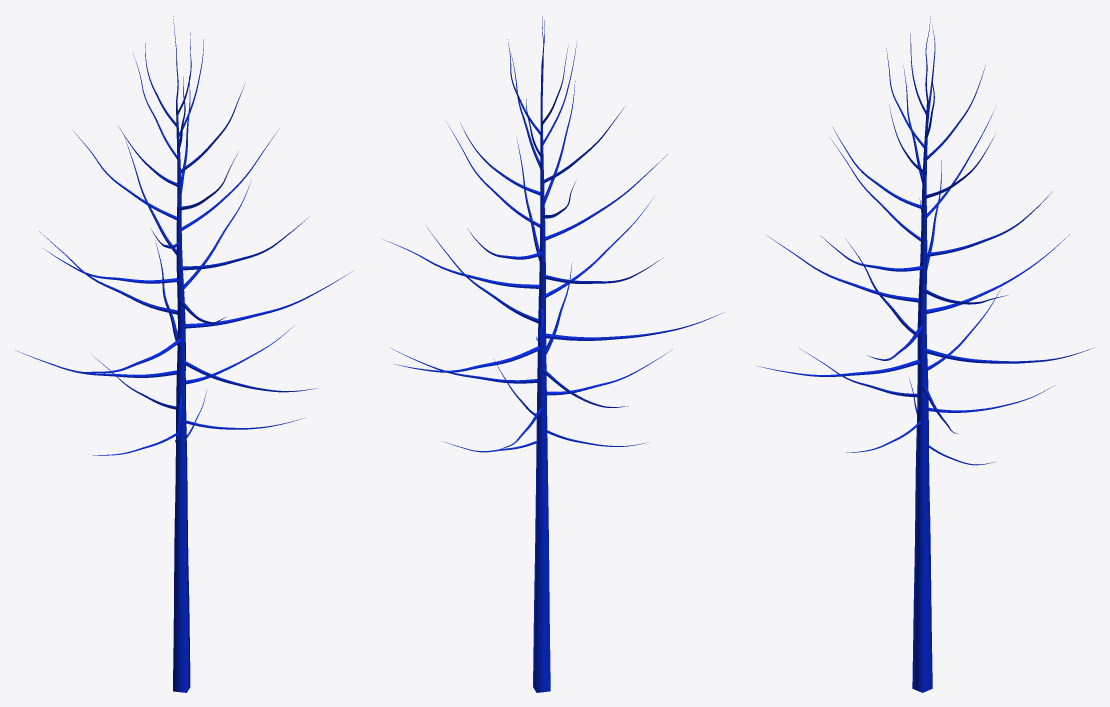
File: tree.fbx
3 views of the same model, side by side, from view 1: azimuth 30°, elevation 25°; view 2: azimuth 150°, elevation 25°; view 3: azimuth 270°, elevation 25° (orthographic).
Parts seen in each view (by area): view 1: tree; view 2: tree; view 3: tree.
Boxes of the visible parts, x1,y1,x2,y2 form: tree: (15, 16, 352, 692); tree: (385, 16, 724, 692); tree: (755, 16, 1094, 692).
Size of the model in its own units: 775 by 1731 by 795.
